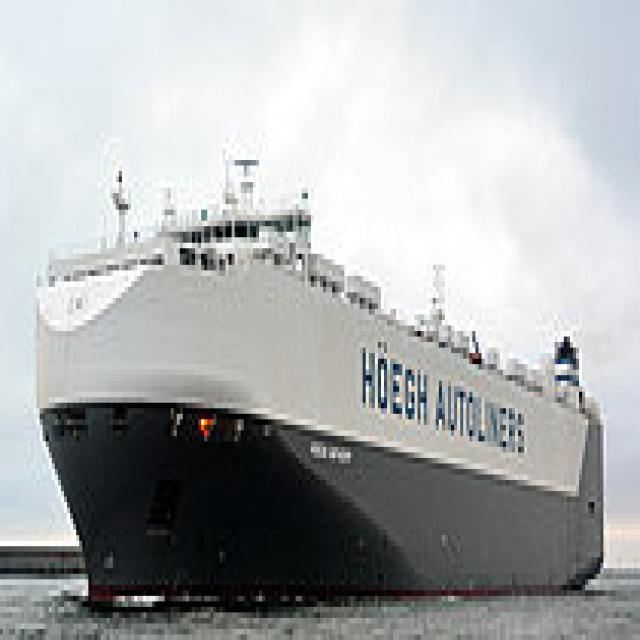Carrier: (24, 132, 604, 607)
